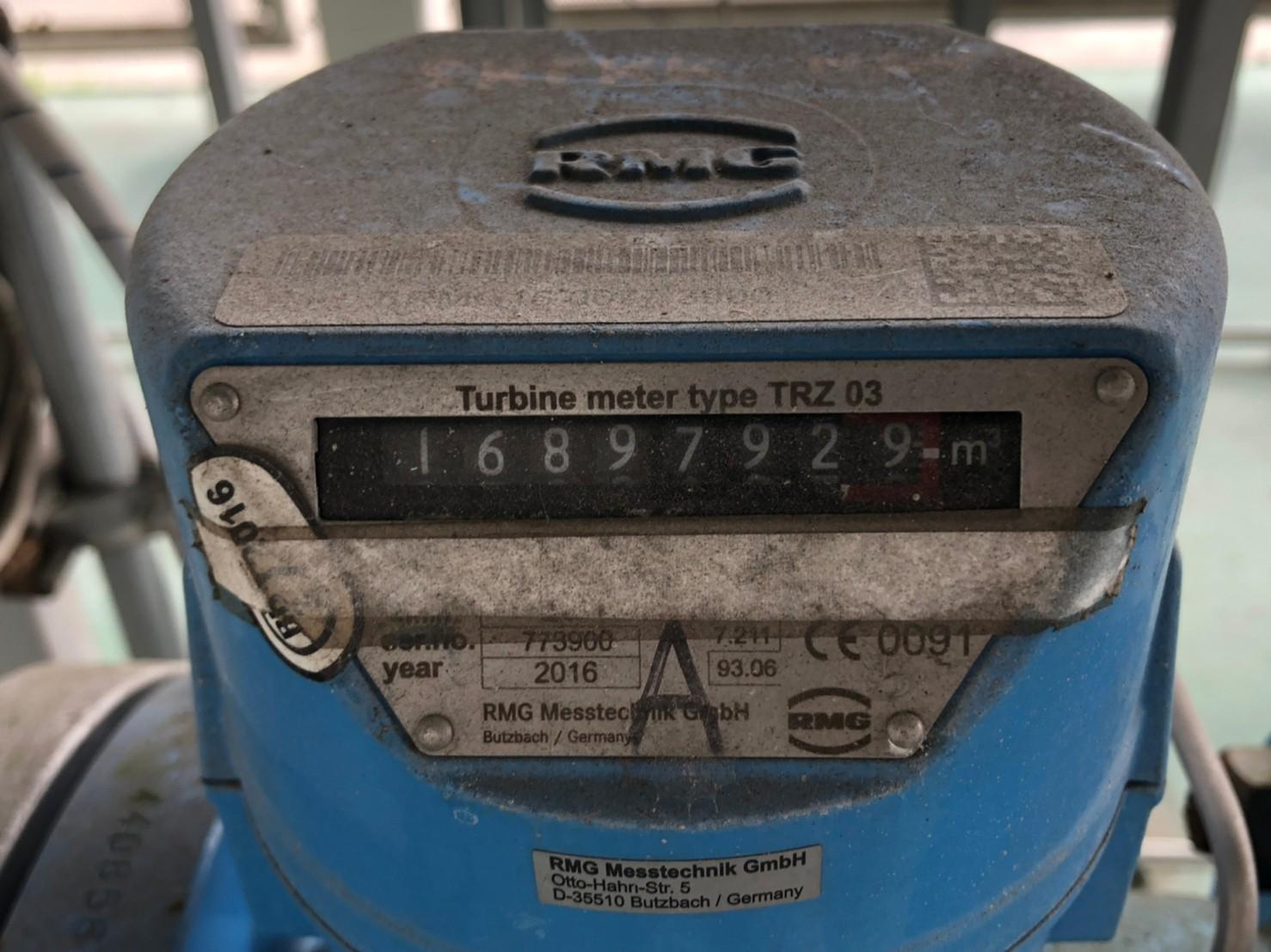analog_dial: (314, 412, 1023, 521)
